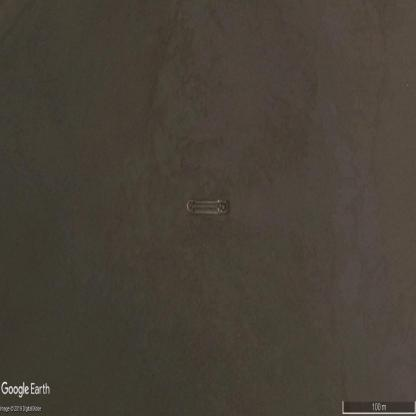ship: (186, 200, 230, 216)
